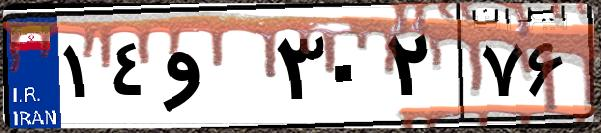0: (330, 28, 385, 110)
1: (57, 26, 110, 100)
2: (385, 28, 445, 110)
3: (270, 28, 330, 110)
4: (110, 28, 158, 98)
6: (525, 38, 570, 115)
7: (475, 38, 525, 113)
و: (158, 20, 270, 120)
